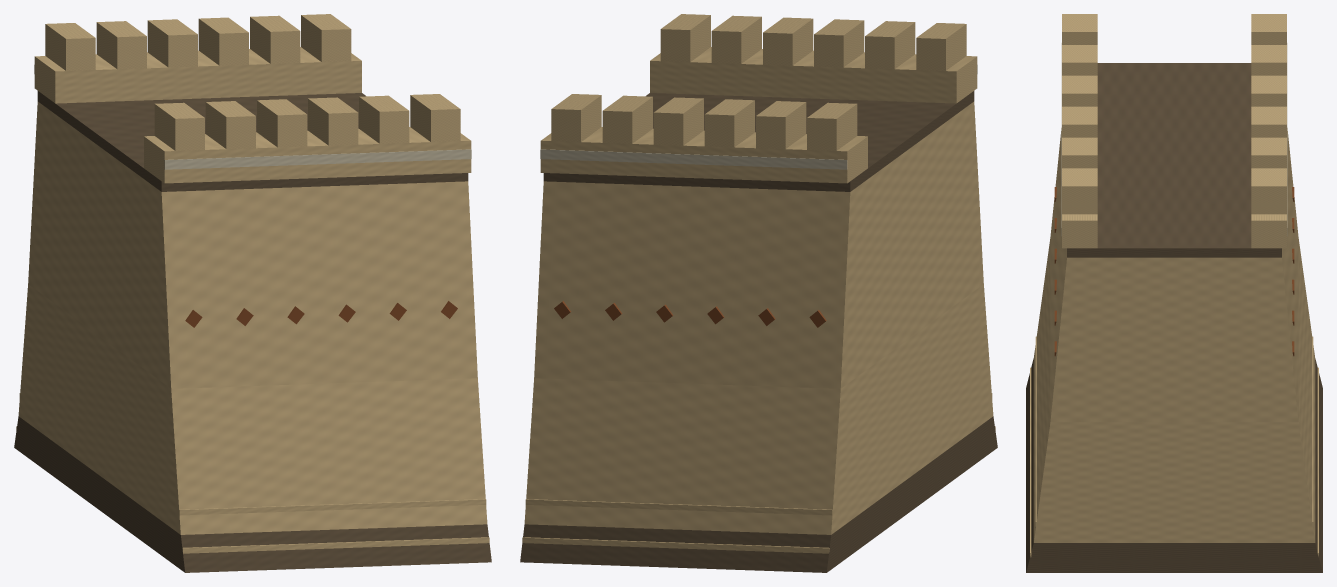
File: Berber_Wall_Age4_slope_down_6m.fbx
The picture shows the model from 3 angles, left to right: view 1: azimuth 30°, elevation 25°; view 2: azimuth 150°, elevation 25°; view 3: azimuth 270°, elevation 25°; orthographic projection. The views are drawn at different scales.
Visible parts, largest first — view 1: slope_down_6m_rammed_curtain_upper, slope_down_6m_rammed_curtain_lower, slope_down_6m_battered_stone_foot, slope_down_6m_parapet.001, slope_down_6m_walk_deck, slope_down_6m_parapet, slope_down_6m_owner_painted_band, slope_down_6m_merlon.003, slope_down_6m_merlon.007, slope_down_6m_merlon.001, slope_down_6m_merlon.002, slope_down_6m_merlon.005 (+9 smaller); view 2: slope_down_6m_rammed_curtain_upper, slope_down_6m_rammed_curtain_lower, slope_down_6m_battered_stone_foot, slope_down_6m_parapet, slope_down_6m_walk_deck, slope_down_6m_parapet.001, slope_down_6m_owner_painted_band.001, slope_down_6m_merlon.005, slope_down_6m_merlon.007, slope_down_6m_merlon.001, slope_down_6m_merlon.003, slope_down_6m_merlon.008 (+9 smaller); view 3: slope_down_6m_rammed_curtain_upper, slope_down_6m_rammed_curtain_lower, slope_down_6m_walk_deck, slope_down_6m_battered_stone_foot, slope_down_6m_merlon.005, slope_down_6m_merlon.011, slope_down_6m_parapet, slope_down_6m_parapet.001, slope_down_6m_merlon.008, slope_down_6m_merlon.009, slope_down_6m_merlon.010, slope_down_6m_merlon.002 (+8 smaller).
Boxes of the visible parts, x1,y1,x2,y2 form: slope_down_6m_rammed_curtain_upper: (28,101,477,388); slope_down_6m_rammed_curtain_lower: (18,284,487,534); slope_down_6m_battered_stone_foot: (14,416,491,572); slope_down_6m_parapet.001: (34,47,361,103); slope_down_6m_walk_deck: (37,91,468,191); slope_down_6m_parapet: (144,127,471,183); slope_down_6m_owner_painted_band: (164,149,471,169); slope_down_6m_merlon.003: (308,97,358,145); slope_down_6m_merlon.007: (96,21,146,69); slope_down_6m_merlon.001: (205,101,255,149); slope_down_6m_merlon.002: (257,99,307,147); slope_down_6m_merlon.005: (410,94,460,141); slope_down_6m_rammed_curtain_upper: (534,101,983,388); slope_down_6m_rammed_curtain_lower: (524,284,993,534); slope_down_6m_battered_stone_foot: (520,416,997,572); slope_down_6m_parapet: (650,47,977,103); slope_down_6m_walk_deck: (543,91,974,191); slope_down_6m_parapet.001: (540,127,867,183); slope_down_6m_owner_painted_band.001: (540,149,847,169); slope_down_6m_merlon.005: (660,14,710,62); slope_down_6m_merlon.007: (756,101,806,149); slope_down_6m_merlon.001: (865,21,915,69); slope_down_6m_merlon.003: (763,17,813,65); slope_down_6m_merlon.008: (704,99,754,147); slope_down_6m_rammed_curtain_upper: (1050,128,1298,422); slope_down_6m_rammed_curtain_lower: (1033,239,1315,542); slope_down_6m_walk_deck: (1067,63,1281,257); slope_down_6m_battered_stone_foot: (1026,359,1322,572); slope_down_6m_merlon.005: (1062,168,1097,214); slope_down_6m_merlon.011: (1251,168,1286,214); slope_down_6m_parapet: (1062,214,1097,248); slope_down_6m_parapet.001: (1251,214,1286,248); slope_down_6m_merlon.008: (1251,75,1286,106); slope_down_6m_merlon.009: (1251,106,1286,137); slope_down_6m_merlon.010: (1251,137,1286,168); slope_down_6m_merlon.002: (1062,75,1097,106).
Size of the model in its own units: 600 by 936 by 580.
Materials: 4 (4 with a texture image).
